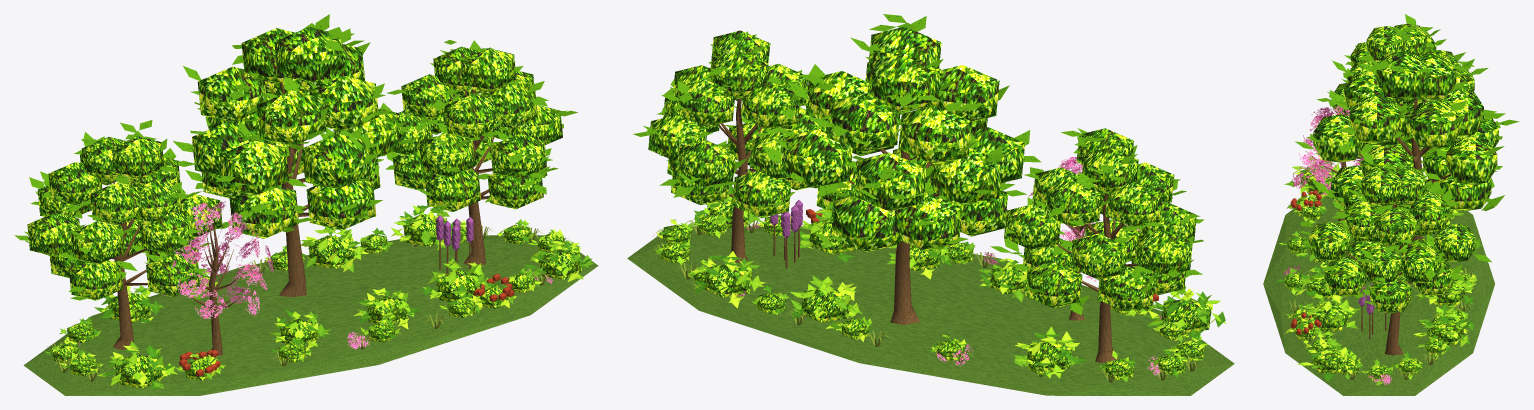
The model's file is V05_vegetation_mid_v2.glb.
3 renders of one model, left to right at view 1: azimuth 30°, elevation 25°; view 2: azimuth 150°, elevation 25°; view 3: azimuth 270°, elevation 25°, orthographic. The views are drawn at different scales.
Visible parts, largest first — view 1: GAME_VEG_Dense_inner_leaves, GAME_VEG_Grass, GAME_VEG_Sculpted_leaves, GAME_V2_Bark, GAME_V2_Blossom_cutout, GAME_VEG_Yellow_green, GAME_VEG_Red_leaves, GAME_VEG_Lilac_flower; view 2: GAME_VEG_Dense_inner_leaves, GAME_VEG_Grass, GAME_VEG_Sculpted_leaves, GAME_V2_Bark, GAME_VEG_Yellow_green, GAME_V2_Blossom_cutout, GAME_VEG_Lilac_flower; view 3: GAME_VEG_Dense_inner_leaves, GAME_VEG_Grass, GAME_VEG_Sculpted_leaves, GAME_V2_Blossom_cutout, GAME_V2_Bark, GAME_VEG_Yellow_green, GAME_VEG_Red_leaves.
Part boxes in pixels (bbox=[...]): GAME_VEG_Dense_inner_leaves: bbox=[27, 27, 581, 388]; GAME_VEG_Grass: bbox=[23, 235, 598, 395]; GAME_VEG_Sculpted_leaves: bbox=[14, 14, 593, 388]; GAME_V2_Bark: bbox=[110, 78, 494, 355]; GAME_V2_Blossom_cutout: bbox=[69, 201, 552, 349]; GAME_VEG_Yellow_green: bbox=[47, 226, 569, 381]; GAME_VEG_Red_leaves: bbox=[179, 274, 514, 376]; GAME_VEG_Lilac_flower: bbox=[436, 215, 473, 250]; GAME_VEG_Dense_inner_leaves: bbox=[648, 26, 1211, 379]; GAME_VEG_Grass: bbox=[627, 226, 1234, 395]; GAME_VEG_Sculpted_leaves: bbox=[633, 14, 1226, 381]; GAME_V2_Bark: bbox=[718, 98, 1138, 362]; GAME_VEG_Yellow_green: bbox=[652, 218, 1209, 382]; GAME_V2_Blossom_cutout: bbox=[653, 157, 1162, 376]; GAME_VEG_Lilac_flower: bbox=[770, 200, 802, 238]; GAME_VEG_Dense_inner_leaves: bbox=[1284, 23, 1498, 381]; GAME_VEG_Grass: bbox=[1263, 194, 1494, 395]; GAME_VEG_Sculpted_leaves: bbox=[1277, 14, 1519, 385]; GAME_V2_Blossom_cutout: bbox=[1283, 106, 1391, 385]; GAME_V2_Bark: bbox=[1306, 98, 1450, 355]; GAME_VEG_Yellow_green: bbox=[1282, 197, 1476, 384]; GAME_VEG_Red_leaves: bbox=[1290, 190, 1321, 334].
Size of the model in its own units: 8 by 4.06 by 3.87.
8 materials, 5 textured.
